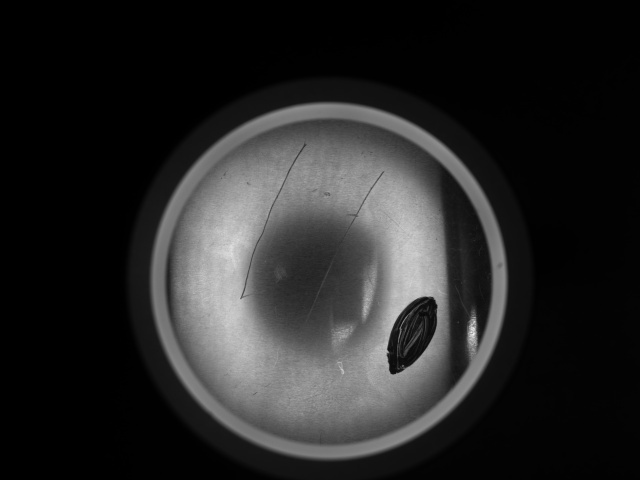ca_shang: (301, 168, 388, 320), (235, 141, 309, 299)
zang_wu: (384, 294, 441, 376)
